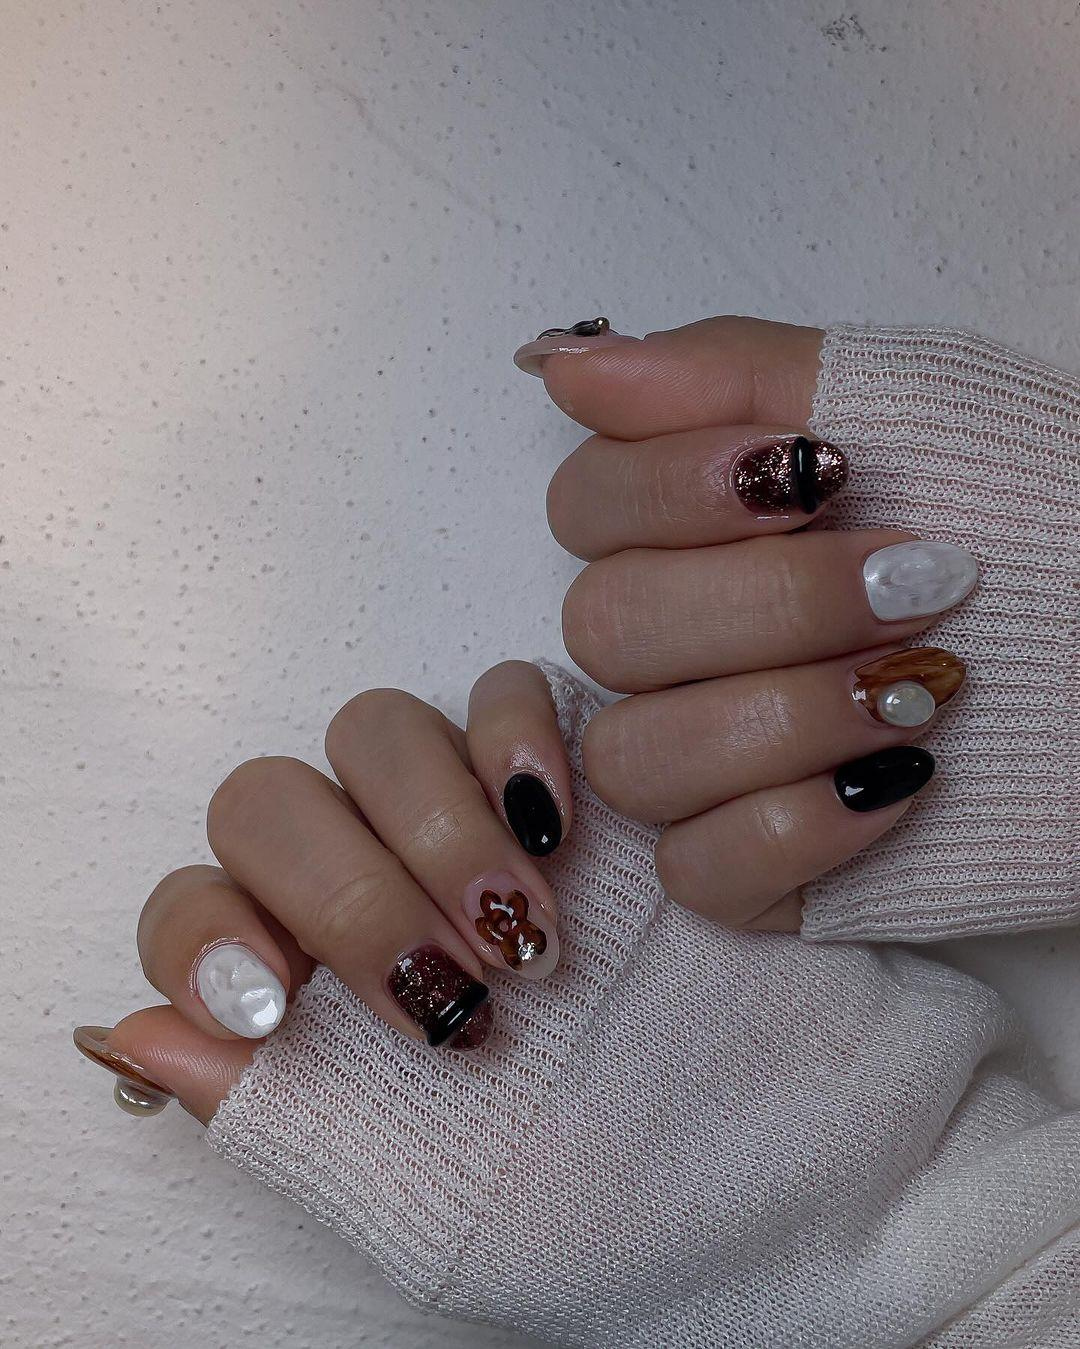nail: (461, 868, 560, 981), (385, 942, 489, 1047), (860, 538, 978, 624), (730, 433, 847, 519), (847, 645, 965, 729), (192, 937, 287, 1040), (71, 1023, 175, 1116), (831, 743, 935, 814), (500, 769, 563, 857)
